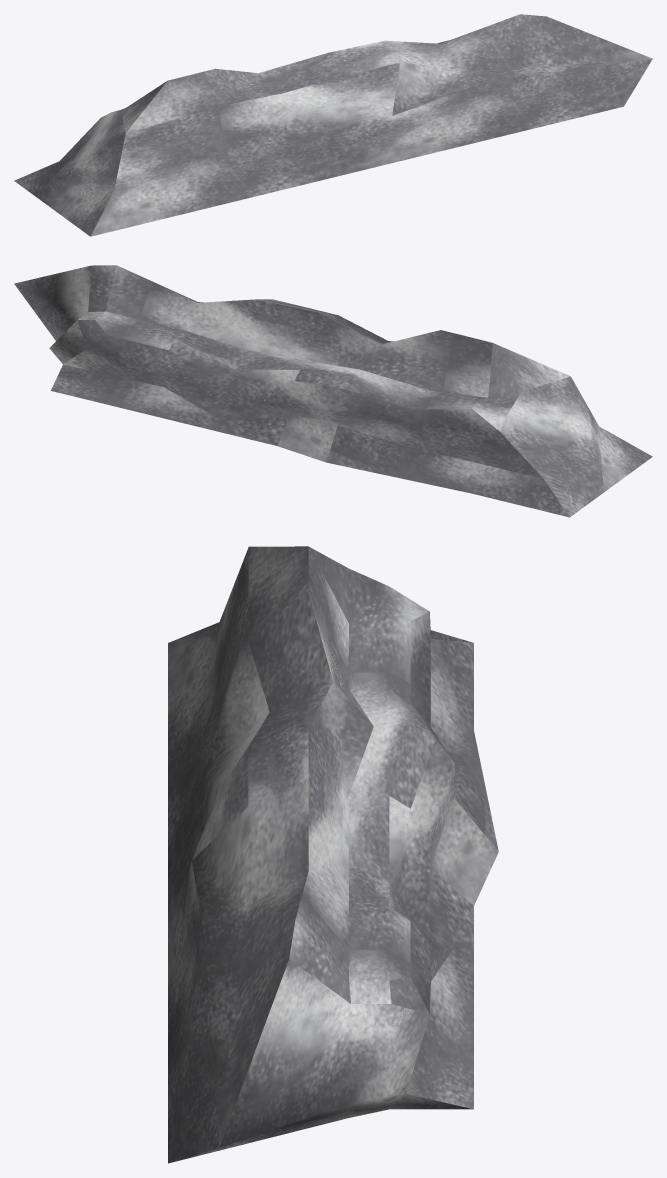
The model's file is MountainB4.FBX.
3 views of the same model, one above another, from view 1: azimuth 30°, elevation 25°; view 2: azimuth 150°, elevation 25°; view 3: azimuth 270°, elevation 25° (orthographic). The views are drawn at different scales.
Parts seen in each view (by area): view 1: MountainB4; view 2: MountainB4; view 3: MountainB4.
Part boxes in pixels (box(x1,y1,x2,y2)): MountainB4: box(14, 14, 652, 236); MountainB4: box(14, 265, 652, 517); MountainB4: box(168, 546, 498, 1163).
Bounding box in the file's own units: 459 × 78.82 × 114.
1 material, 1 textured.
